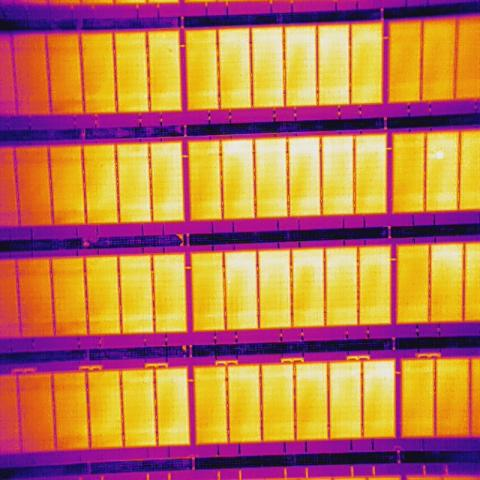fault: (435, 148, 444, 161)
